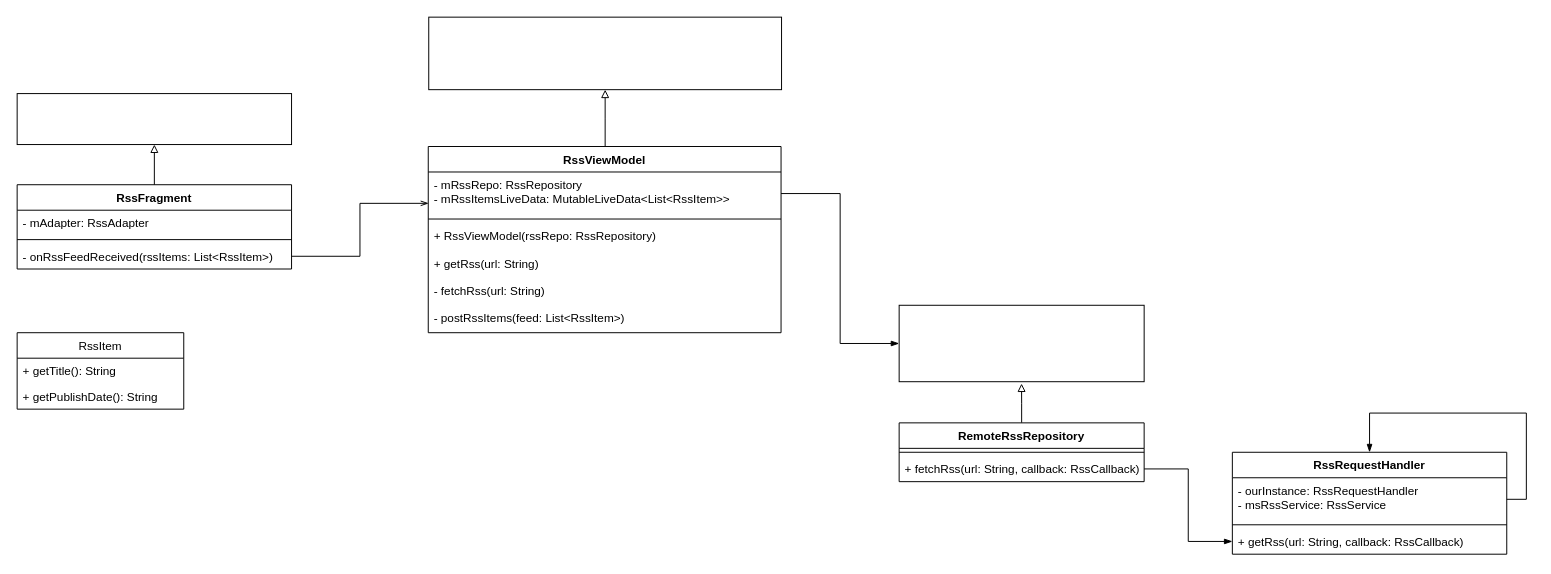
This 1551x574 diagram has some shape labels left out. The centre of each missing label's shape, as x and y in pixels:
<<abstract>> ViewModel # onCleared(): the point at 605,53
<<Interface>> RssRepository + fetchRss(url: String, callback: RssCallback): the point at 1021,343
Fragment: the point at 154,119
